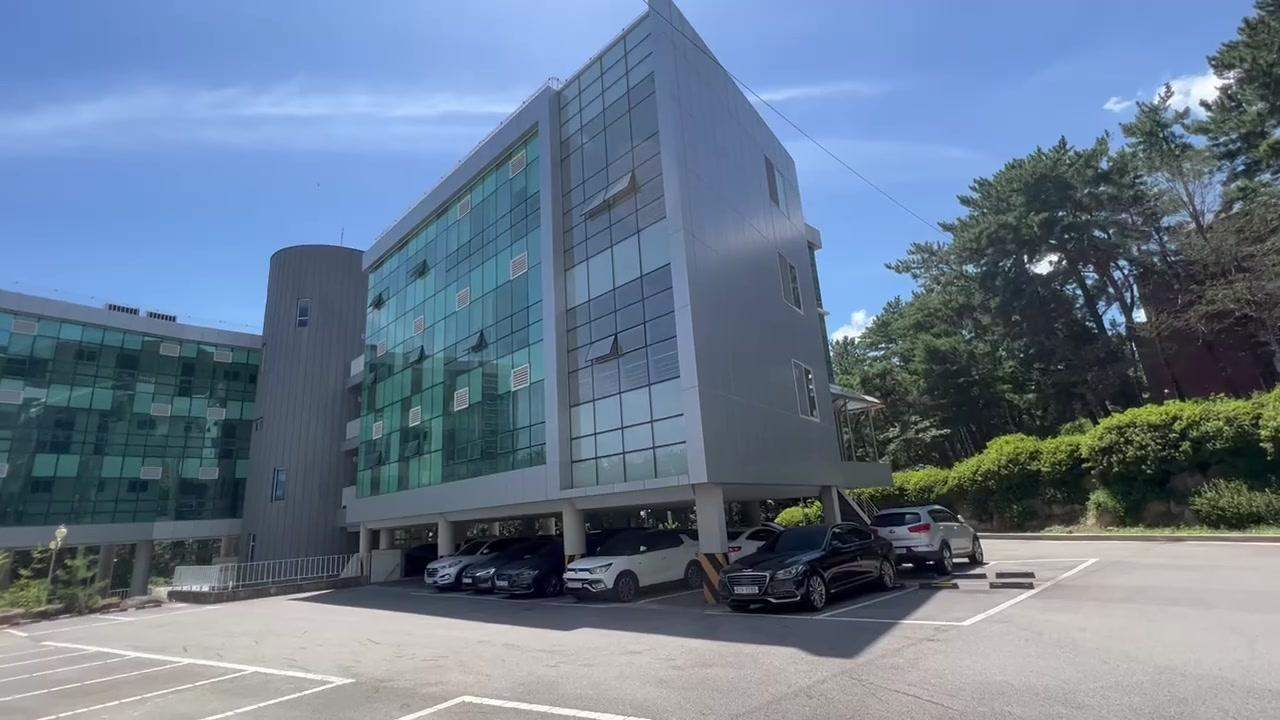building: (11, 13, 871, 504)
